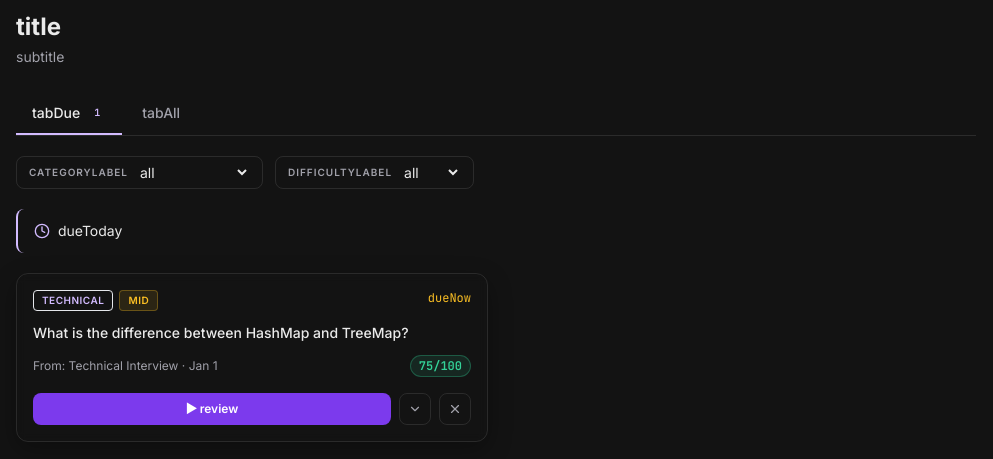
Test: BookmarksClient — show/hide model answer › toggles model answer visibility on chevron click
Click the button "tabAll".
click(161, 113)  # box [126,93,196,133]
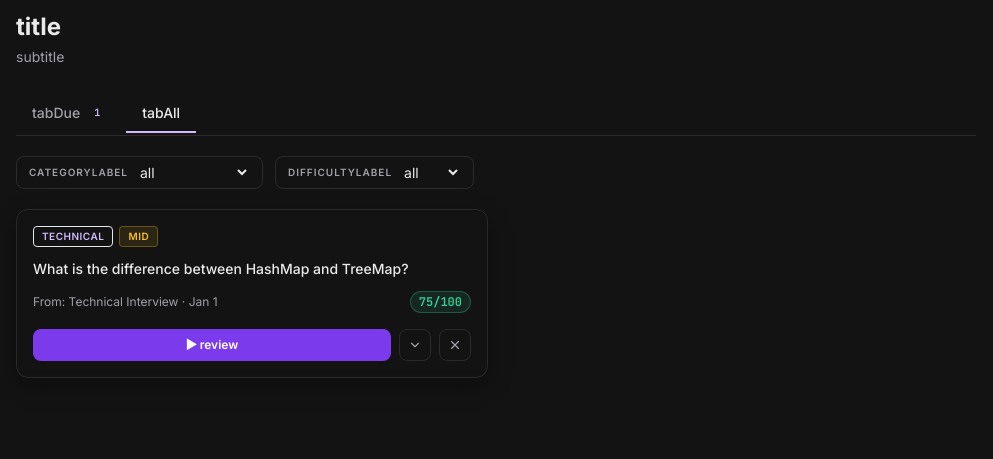
Expected: the text "HashMap uses hashing, TreeMap uses Red-Black tree." is not shown
# Click expand button
Click the button titled "showAnswer".
click(415, 345)  # box [399,329,431,361]
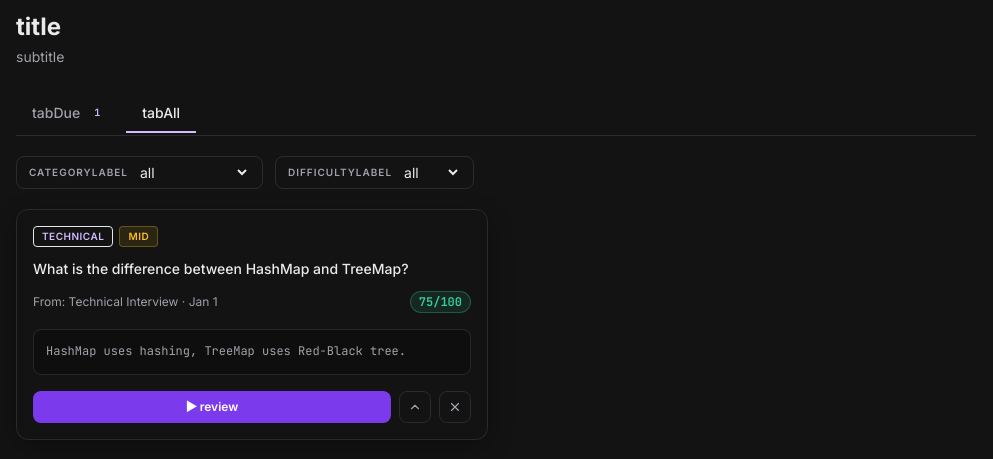
Result: the text "HashMap uses hashing, TreeMap uses Red-Black tree." is shown at [46,342,458,362]
# Click again to collapse
Click the button titled "hideAnswer".
click(415, 406)  # box [399,390,431,422]
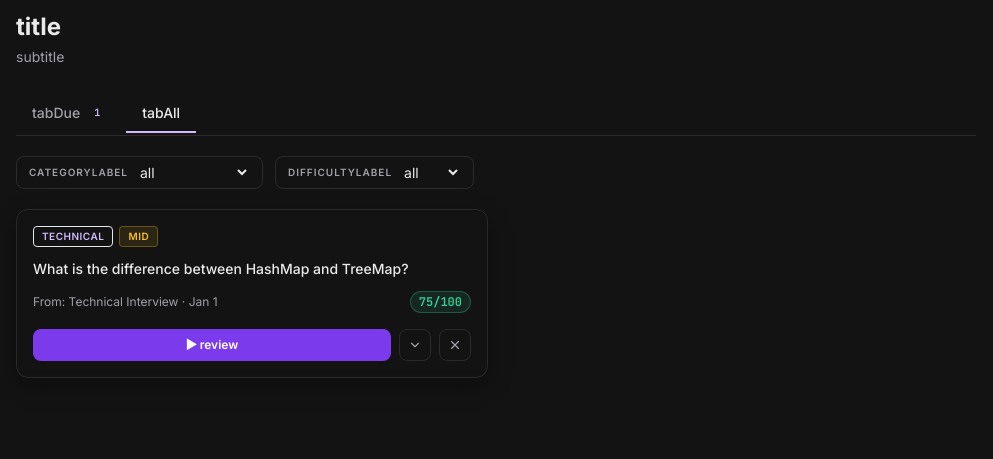
Result: the text "HashMap uses hashing, TreeMap uses Red-Black tree." is gone
